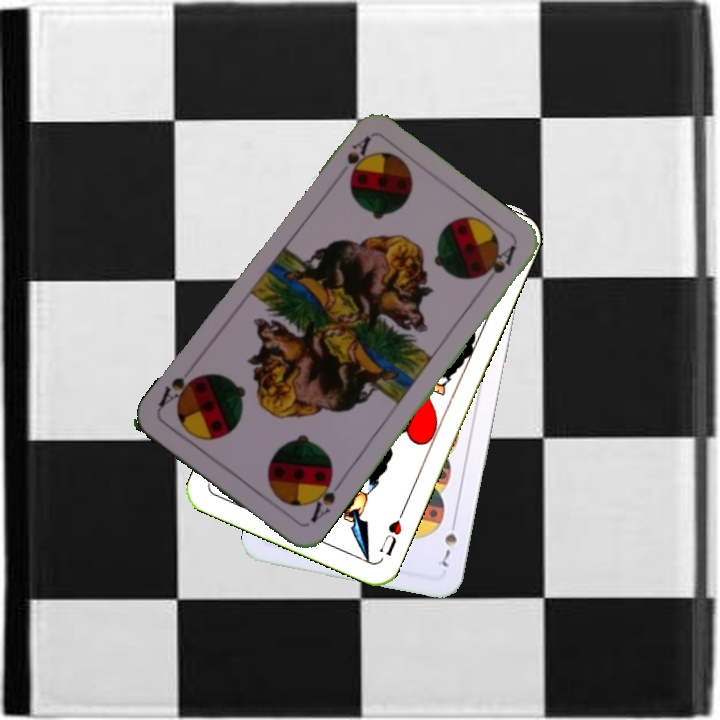HU: (375, 506, 407, 559)
S7: (433, 514, 460, 571)
SA: (304, 470, 346, 526), (342, 132, 374, 181)
